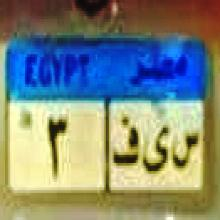3: (43, 106, 72, 178)
faa: (112, 110, 140, 174)
seen: (174, 122, 199, 175)
yaa: (143, 119, 170, 180)
